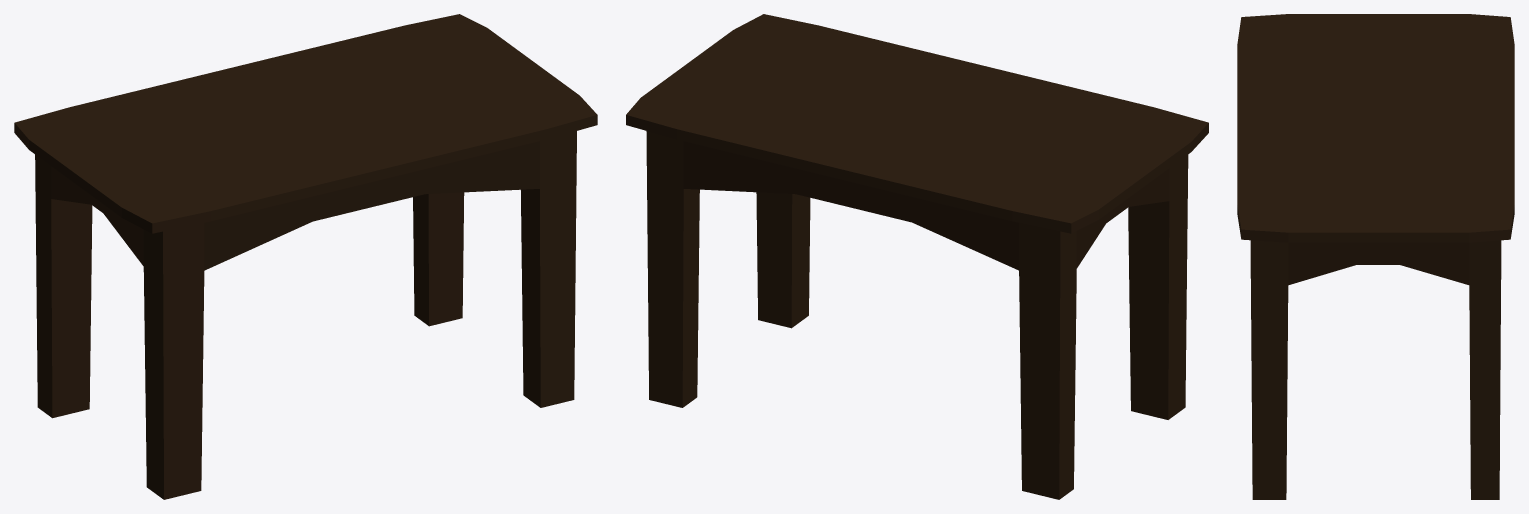
The model's file is Dinner Table.fbx.
3 views of the same model, side by side, from view 1: azimuth 30°, elevation 25°; view 2: azimuth 150°, elevation 25°; view 3: azimuth 270°, elevation 25° (orthographic). The views are drawn at different scales.
Parts seen in each view (by area): view 1: Cube; view 2: Cube; view 3: Cube.
Part boxes in pixels (x1,y1,x2,y2): Cube: (14, 14, 597, 499); Cube: (626, 14, 1208, 499); Cube: (1237, 14, 1514, 499).
Size of the model in its own units: 248 by 147 by 133.
